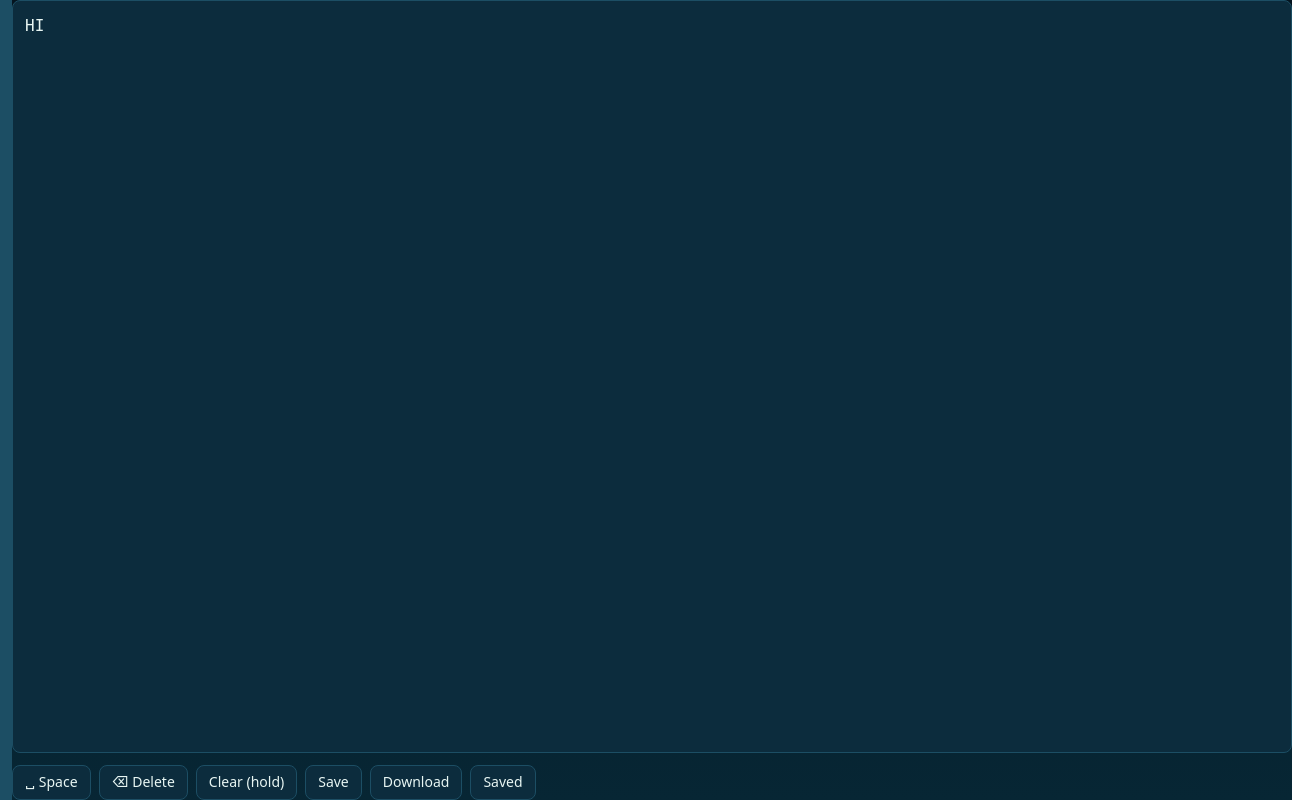
TrainPane › Saved panel shows an empty hint and no list when there are no entries
Click the button "Saved": (503, 783) left=470, top=765, right=536, bottom=799
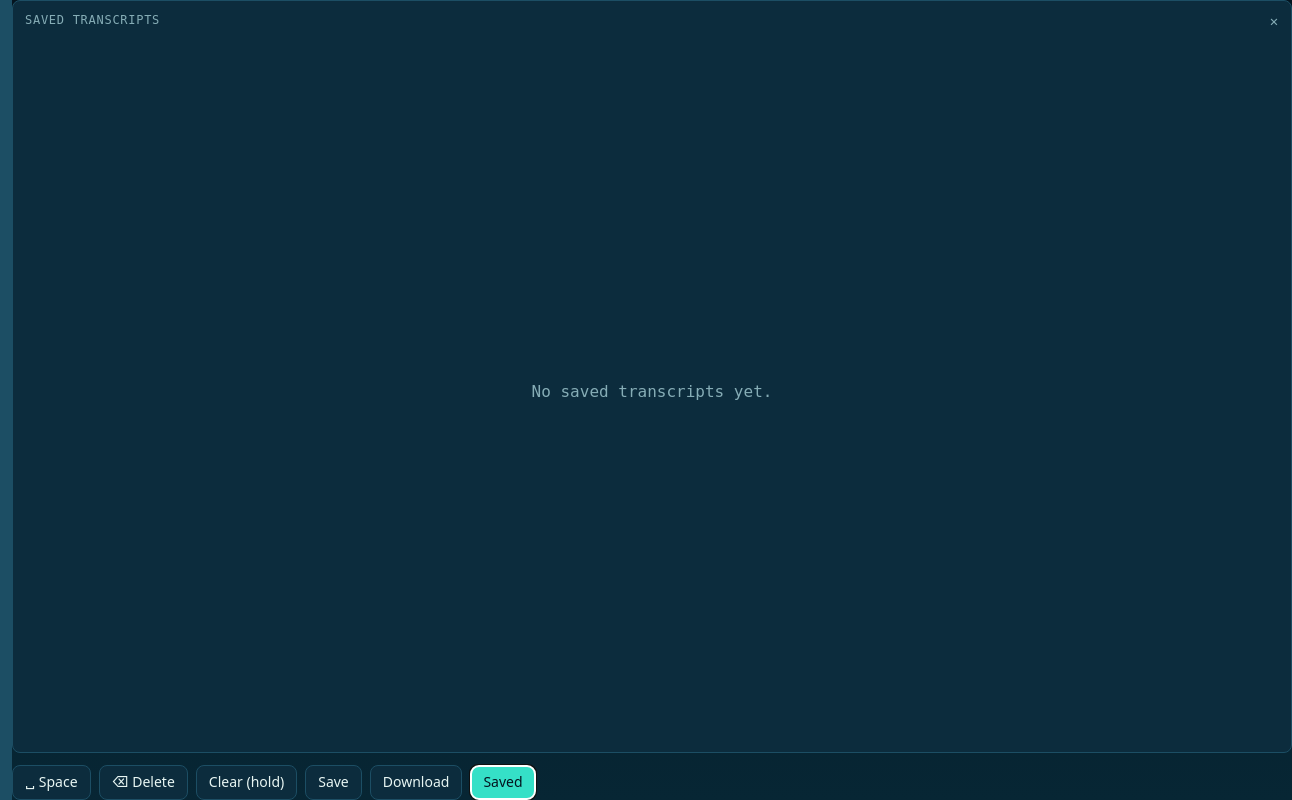
Now the text "No saved transcripts yet." is shown, box left=532, top=379, right=772, bottom=405
